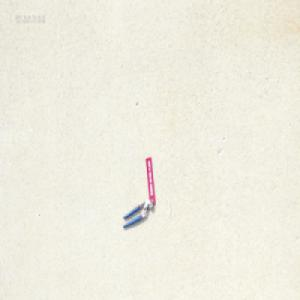Label: (145, 158, 155, 206)
Pliers: (122, 199, 153, 229)
